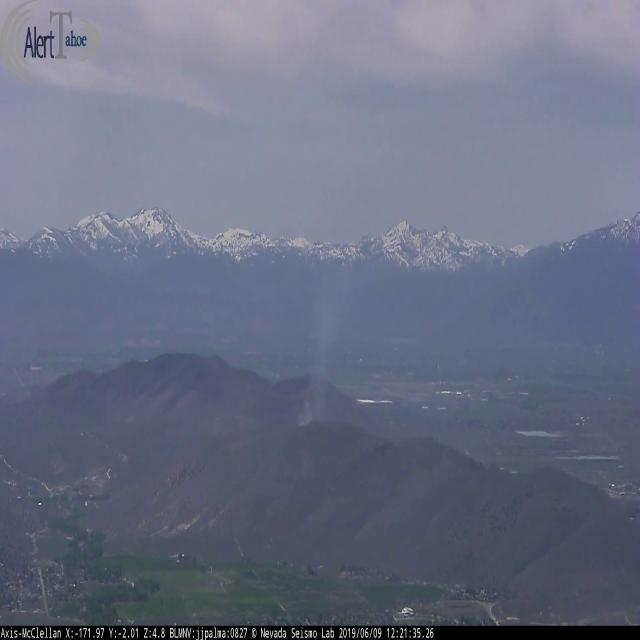smoke: (296, 274, 362, 431)
